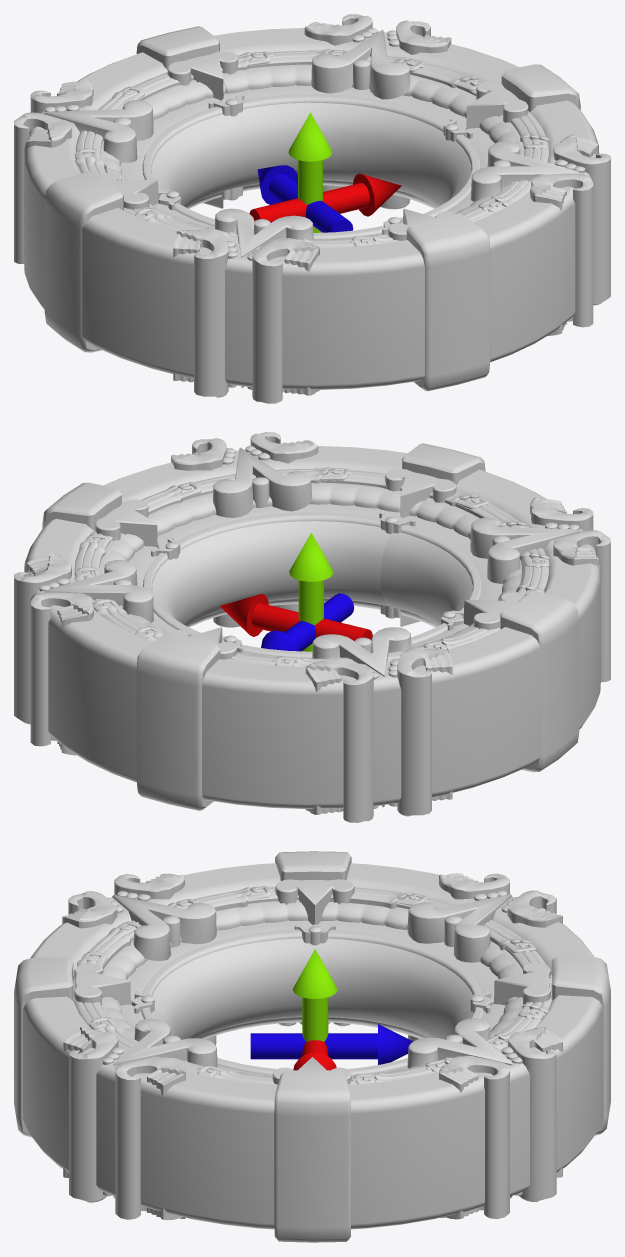
The model's file is AztecPiece.fbx.
The picture shows the model from 3 angles, top to bottom: view 1: azimuth 30°, elevation 25°; view 2: azimuth 150°, elevation 25°; view 3: azimuth 270°, elevation 25°; orthographic projection.
Parts seen in each view (by area): view 1: Aztec_Circle, Gimbal; view 2: Aztec_Circle, Gimbal; view 3: Aztec_Circle, Gimbal.
Part boxes in pixels (x1,y1,x2,y2): Aztec_Circle: (14,14,610,403); Gimbal: (249,112,401,232); Aztec_Circle: (14,432,610,822); Gimbal: (220,532,372,651); Aztec_Circle: (14,851,610,1242); Gimbal: (250,949,412,1070).
Size of the model in its own units: 0.9712 by 0.3187 by 0.9754.
